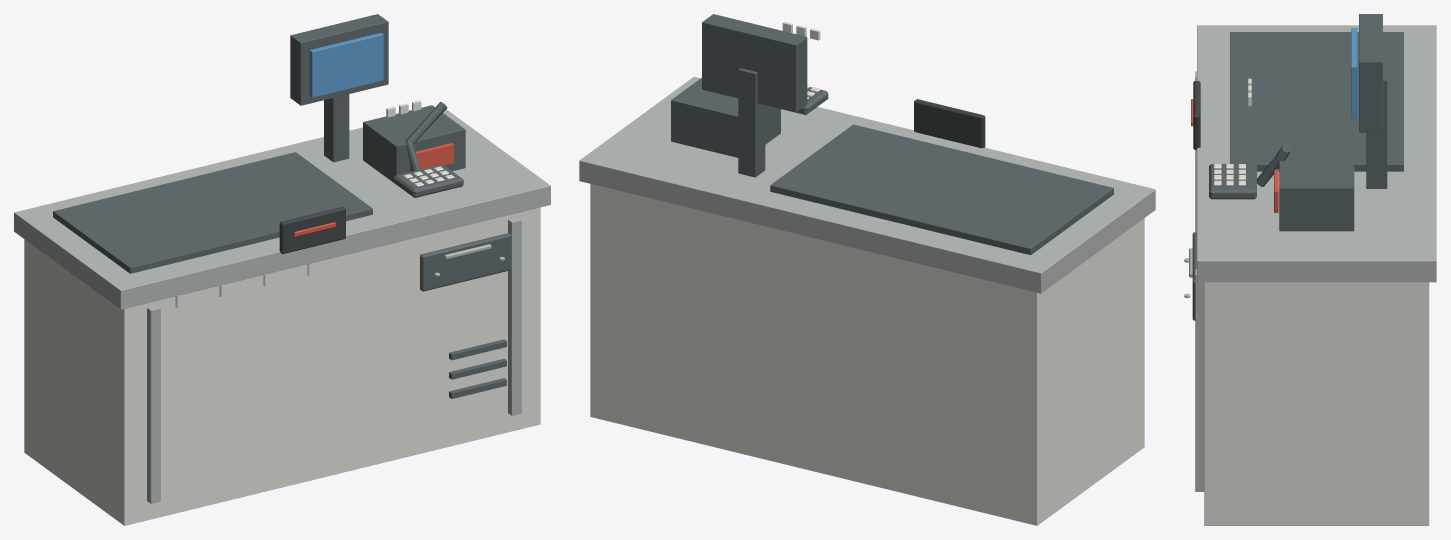
Rendered from Checkout_Scanner.fbx.
3 renders of one model, left to right at view 1: azimuth 30°, elevation 25°; view 2: azimuth 150°, elevation 25°; view 3: azimuth 270°, elevation 25°, orthographic. The views are drawn at different scales.
Visible parts, largest first — view 1: Checkout_Scanner__LPCXFER; view 2: Checkout_Scanner__LPCXFER; view 3: Checkout_Scanner__LPCXFER.
Part boxes in pixels (bbox=[...]): Checkout_Scanner__LPCXFER: bbox=[14, 14, 550, 525]; Checkout_Scanner__LPCXFER: bbox=[579, 14, 1155, 525]; Checkout_Scanner__LPCXFER: bbox=[1184, 14, 1436, 525].
Size of the model in its own units: 186 by 154 by 84.25.
